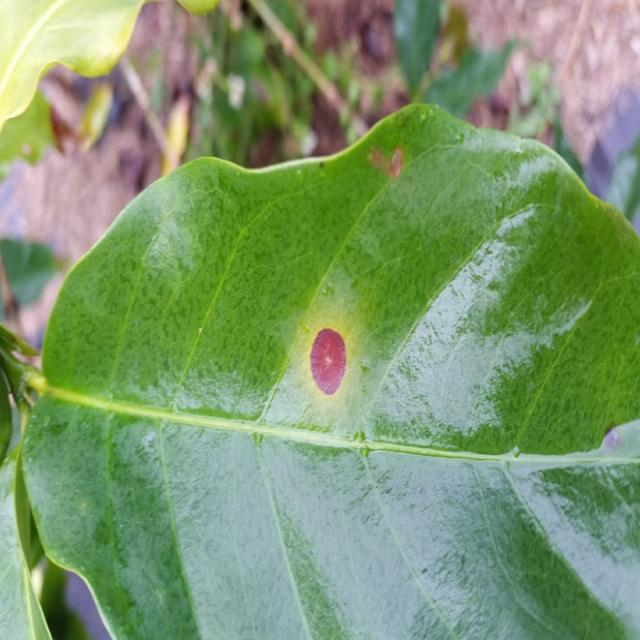Enfermedad-Mancha-de-hierro: (0, 104, 640, 640)
